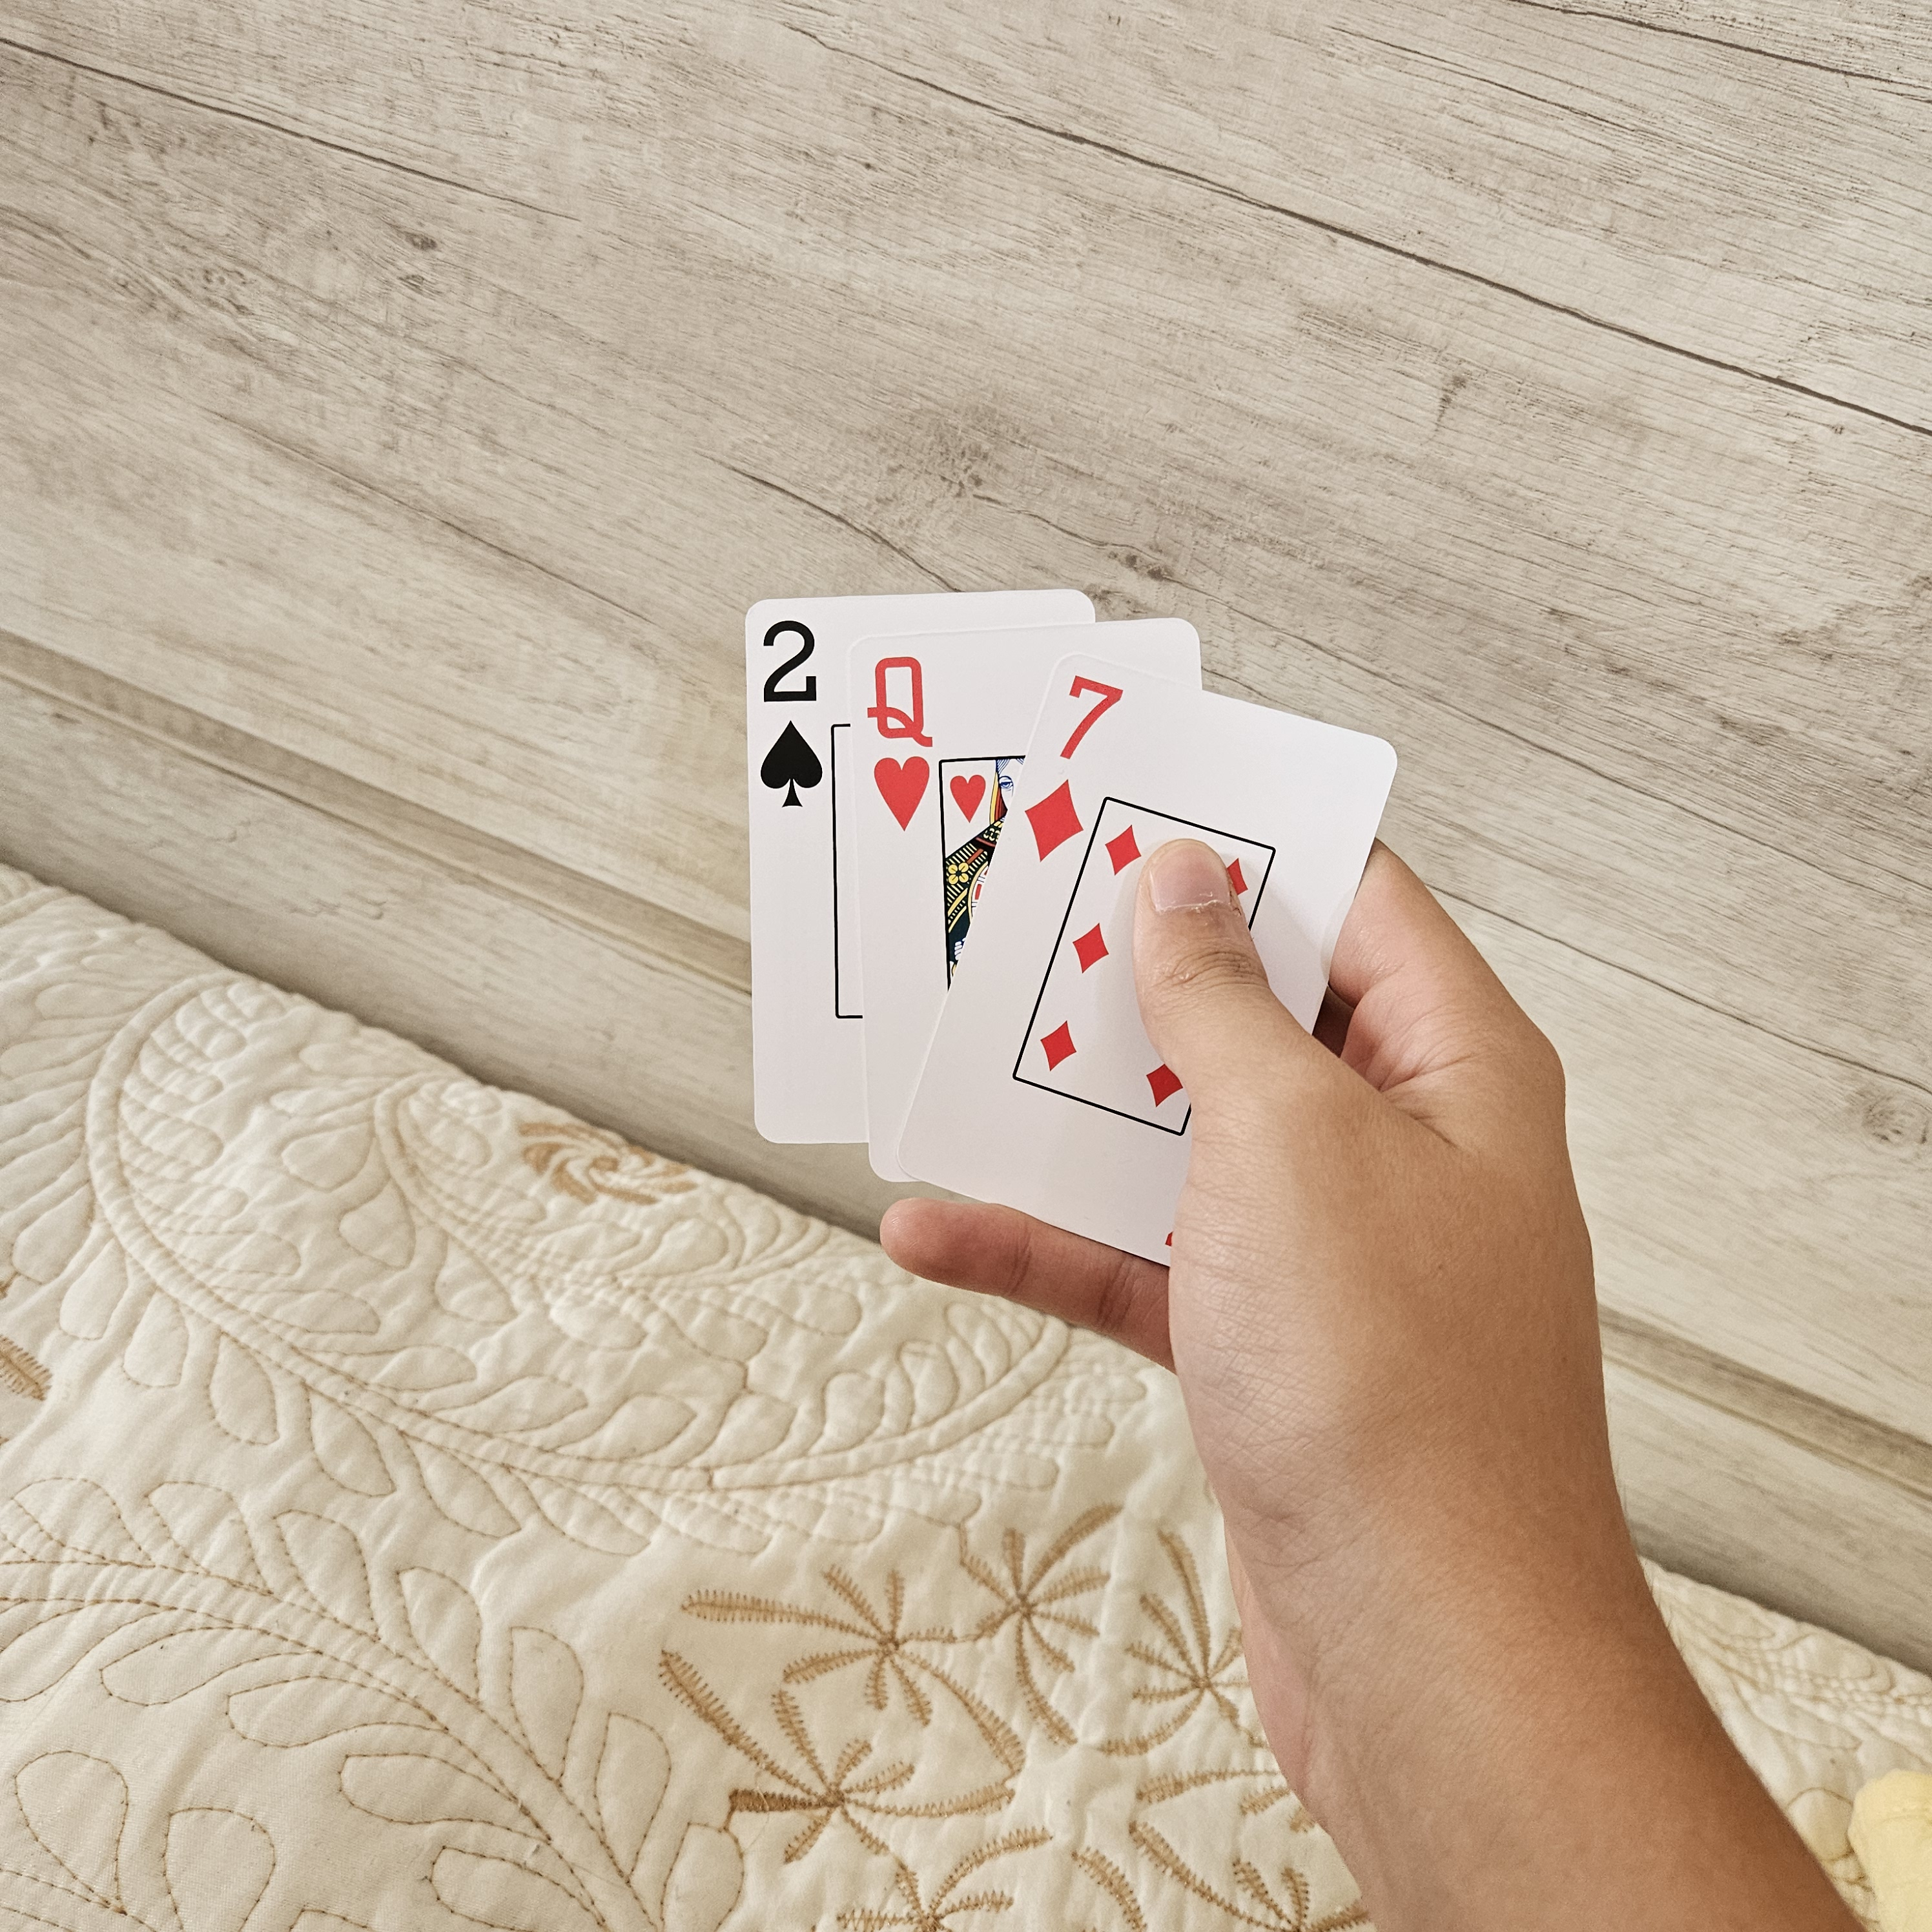2E: (747, 607, 839, 816)
7O: (1014, 656, 1116, 872)
QC: (855, 640, 941, 840)
